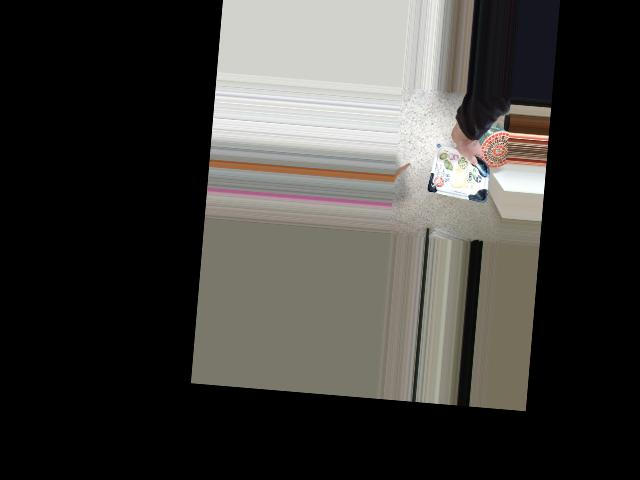cheese: (429, 134, 484, 185)
